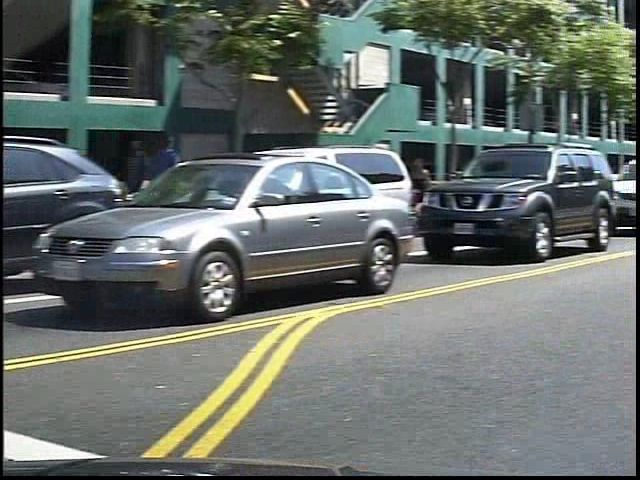person: (154, 128, 205, 249), (419, 156, 449, 230)
